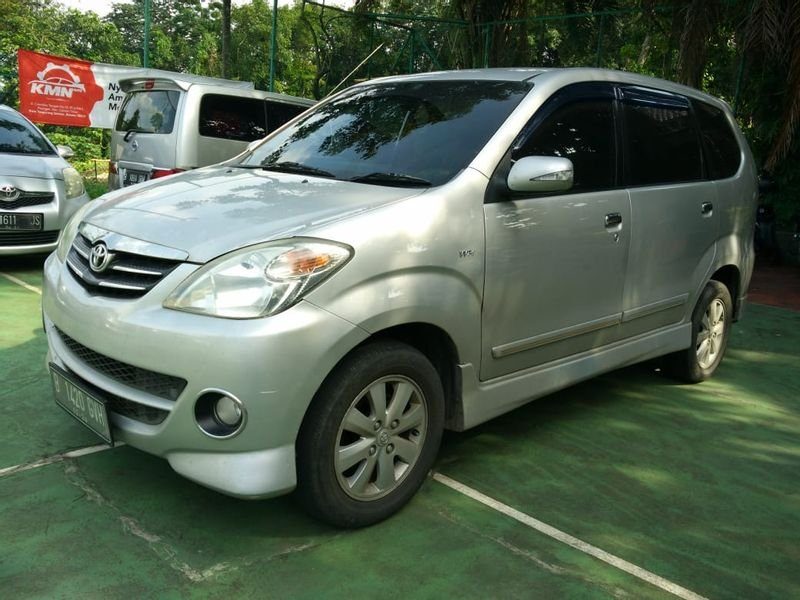mobil: (37, 60, 769, 528)
